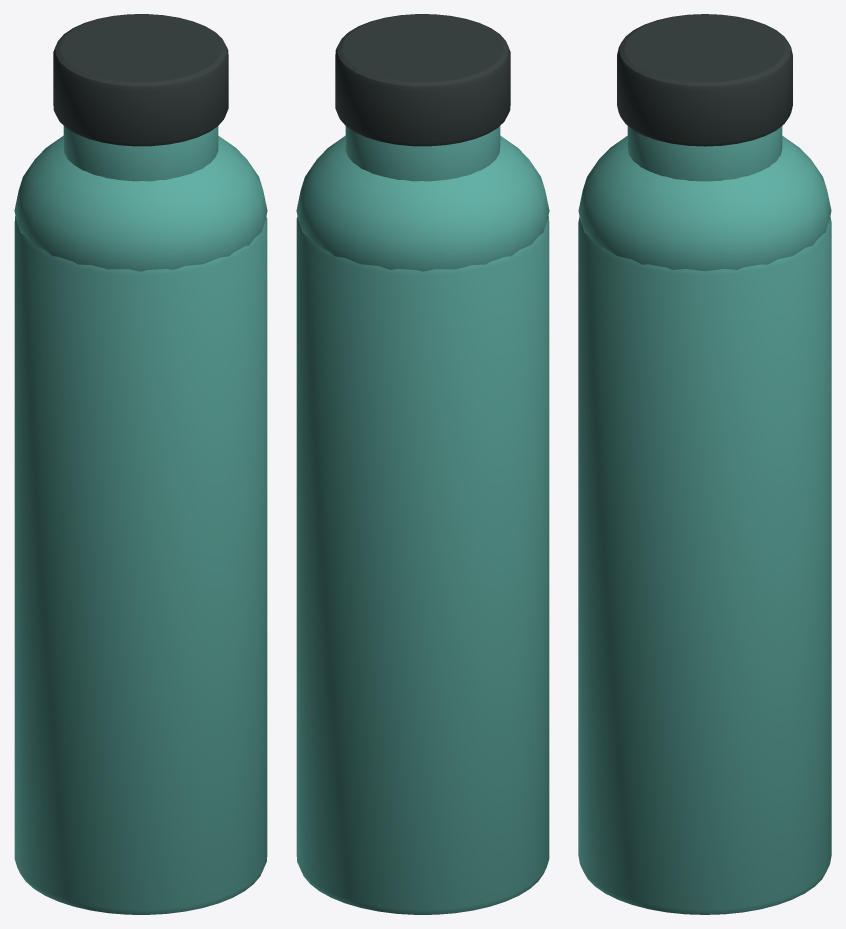
File: bottle.glb
3 views of the same model, side by side, from view 1: azimuth 30°, elevation 25°; view 2: azimuth 150°, elevation 25°; view 3: azimuth 270°, elevation 25° (orthographic).
Parts seen in each view (by area): view 1: Bottle_Body, Bottle_Shoulder, Cap, Neck.002; view 2: Bottle_Body, Bottle_Shoulder, Cap, Neck.002; view 3: Bottle_Body, Bottle_Shoulder, Cap, Neck.002.
Part boxes in pixels (bbox=[...]): Bottle_Body: bbox=[14, 216, 267, 914]; Bottle_Shoulder: bbox=[14, 135, 267, 271]; Cap: bbox=[53, 14, 228, 146]; Neck.002: bbox=[63, 126, 218, 181]; Bottle_Body: bbox=[296, 216, 549, 914]; Bottle_Shoulder: bbox=[296, 135, 549, 271]; Cap: bbox=[335, 14, 510, 146]; Neck.002: bbox=[345, 126, 500, 181]; Bottle_Body: bbox=[578, 216, 831, 914]; Bottle_Shoulder: bbox=[578, 136, 831, 271]; Cap: bbox=[617, 14, 792, 146]; Neck.002: bbox=[627, 126, 782, 181].
Size of the model in its own units: 0.072 by 0.2565 by 0.072.
